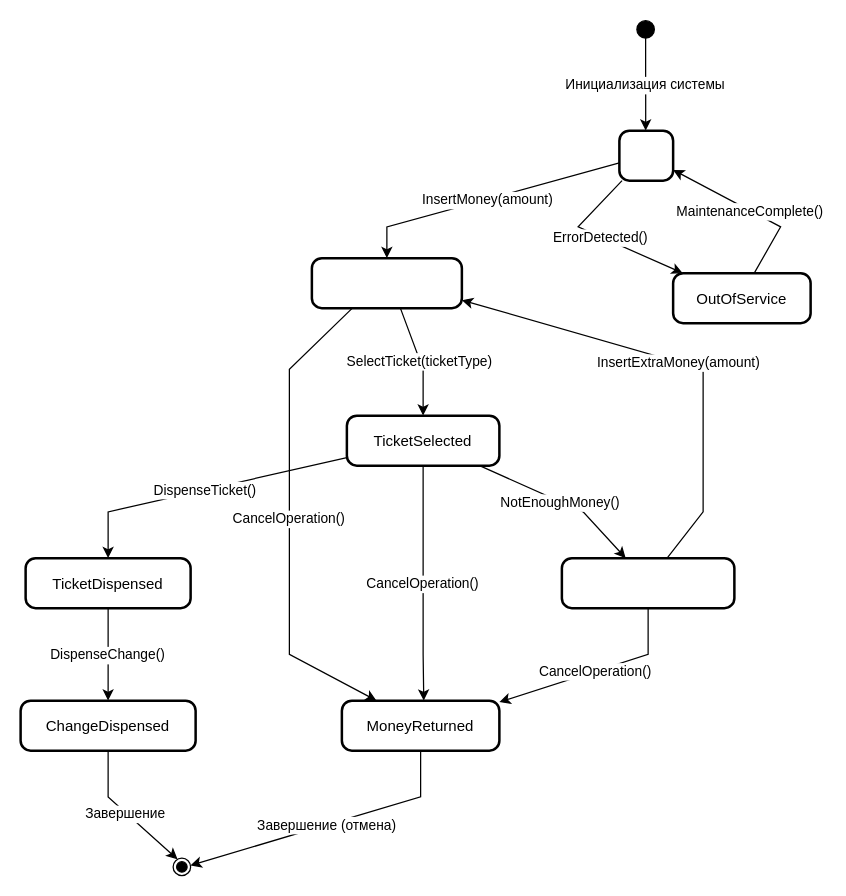
The diagram is 846 pixels wide and 896 high, and some of its shapes have lost their labels. The box of each missing label's shape, as (x1, y1, x2, y2) in pixels:
Idle: (618, 129, 674, 181)
InsufficientFunds: (560, 556, 735, 609)
MoneyInserted: (310, 256, 462, 309)
